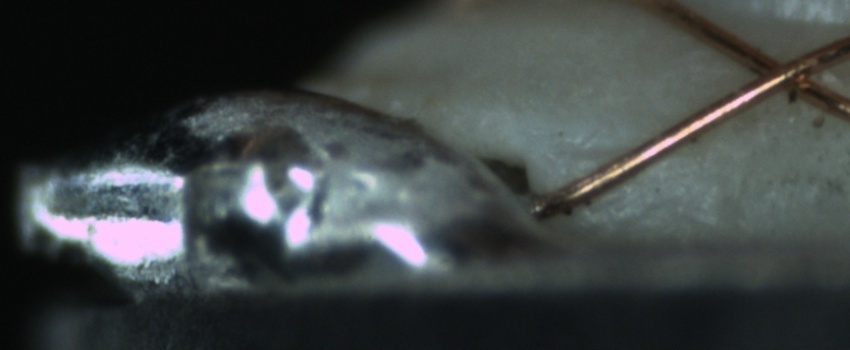CL: (727, 38, 832, 105)
DL: (547, 125, 677, 180)
